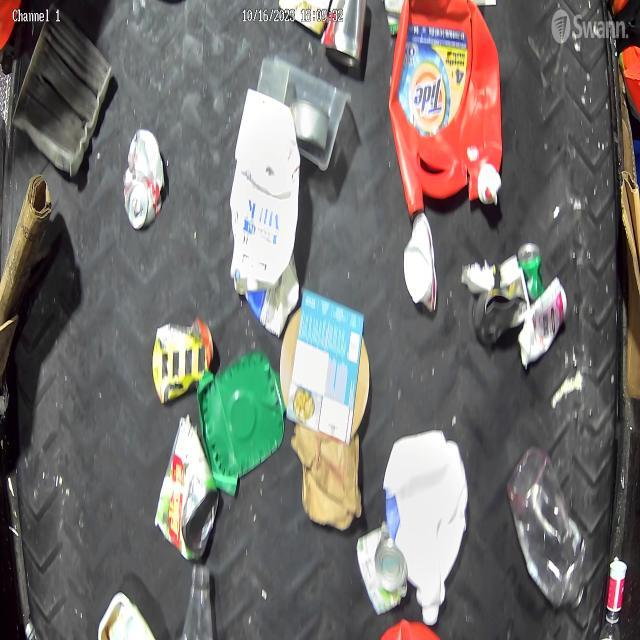can: (154, 413, 218, 558), (150, 324, 213, 396), (124, 130, 166, 226)
milk_jug: (386, 430, 467, 622), (233, 88, 293, 272)
non_white_jug: (387, 0, 497, 215)
plastic_bottle: (511, 449, 585, 604)
